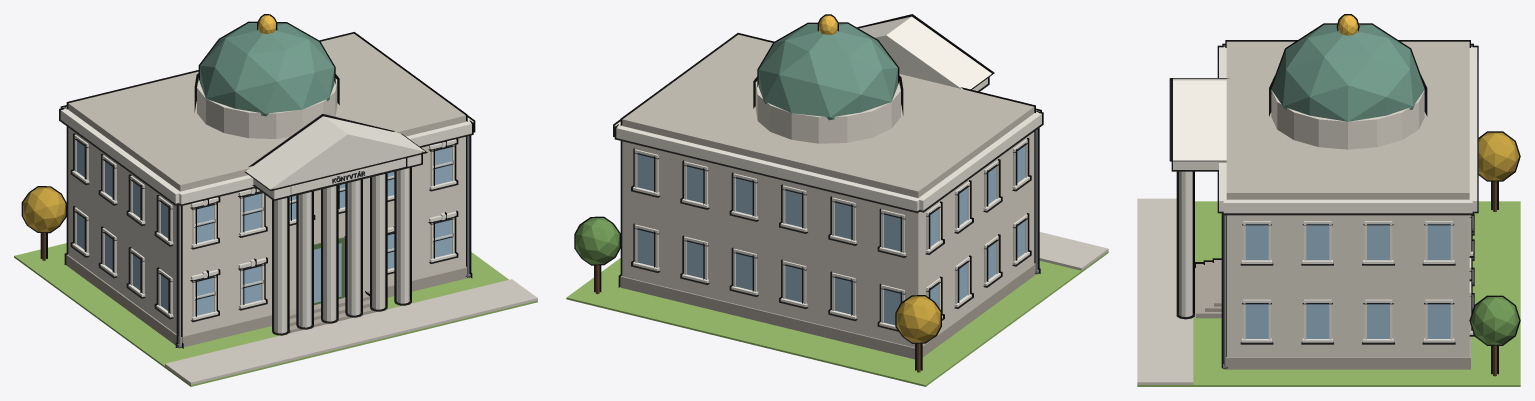
File: Kamu_kutuphane_1.fbx
3 renders of one model, left to right at view 1: azimuth 30°, elevation 25°; view 2: azimuth 150°, elevation 25°; view 3: azimuth 270°, elevation 25°, orthographic. The views are drawn at different scales.
Visible parts, largest first — view 1: Kamu_kutuphane_1; view 2: Kamu_kutuphane_1; view 3: Kamu_kutuphane_1.
Part boxes in pixels (box(x1,y1,x2,y2)): Kamu_kutuphane_1: box(14, 14, 537, 386); Kamu_kutuphane_1: box(566, 14, 1108, 386); Kamu_kutuphane_1: box(1137, 14, 1520, 386).
Size of the model in its own units: 17.21 by 12.14 by 15.
